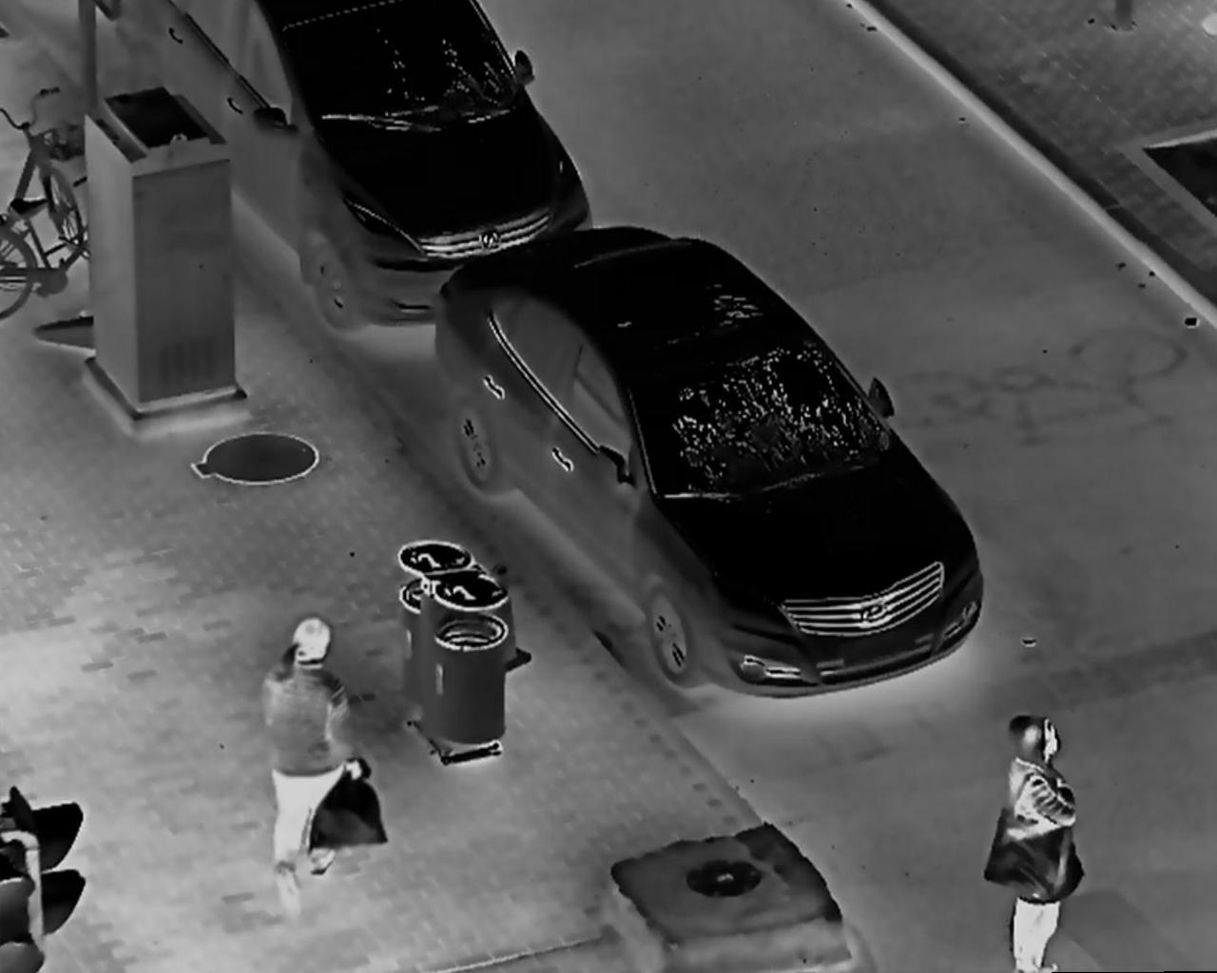person: (257, 616, 369, 923), (986, 709, 1089, 973)
